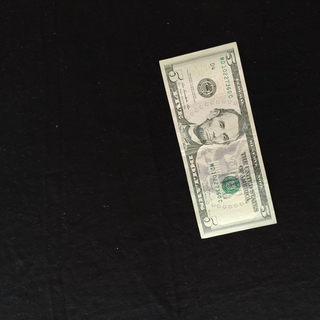5USDFront: (158, 41, 278, 239)
